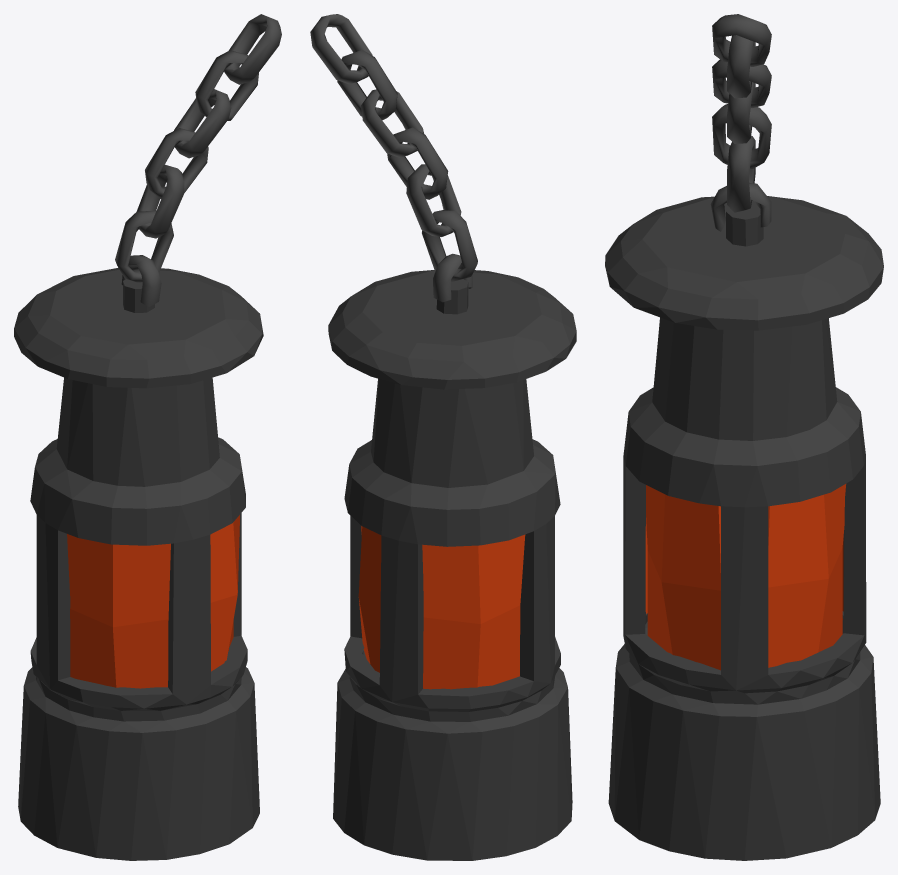
File: Lampu.glb
3 renders of one model, left to right at view 1: azimuth 30°, elevation 25°; view 2: azimuth 150°, elevation 25°; view 3: azimuth 270°, elevation 25°, orthographic. The views are drawn at different scales.
Visible parts, largest first — view 1: Circle; view 2: Circle, Plane.002; view 3: Circle.
Boxes of the visible parts, x1=… form: Circle: x1=14, y1=14, x2=281, y2=860; Circle: x1=310, y1=14, x2=576, y2=860; Plane.002: x1=422, y1=534, x2=525, y2=689; Circle: x1=605, y1=14, x2=883, y2=860.
Bounding box in the file's own units: 2.33 × 6.96 × 2.05.
